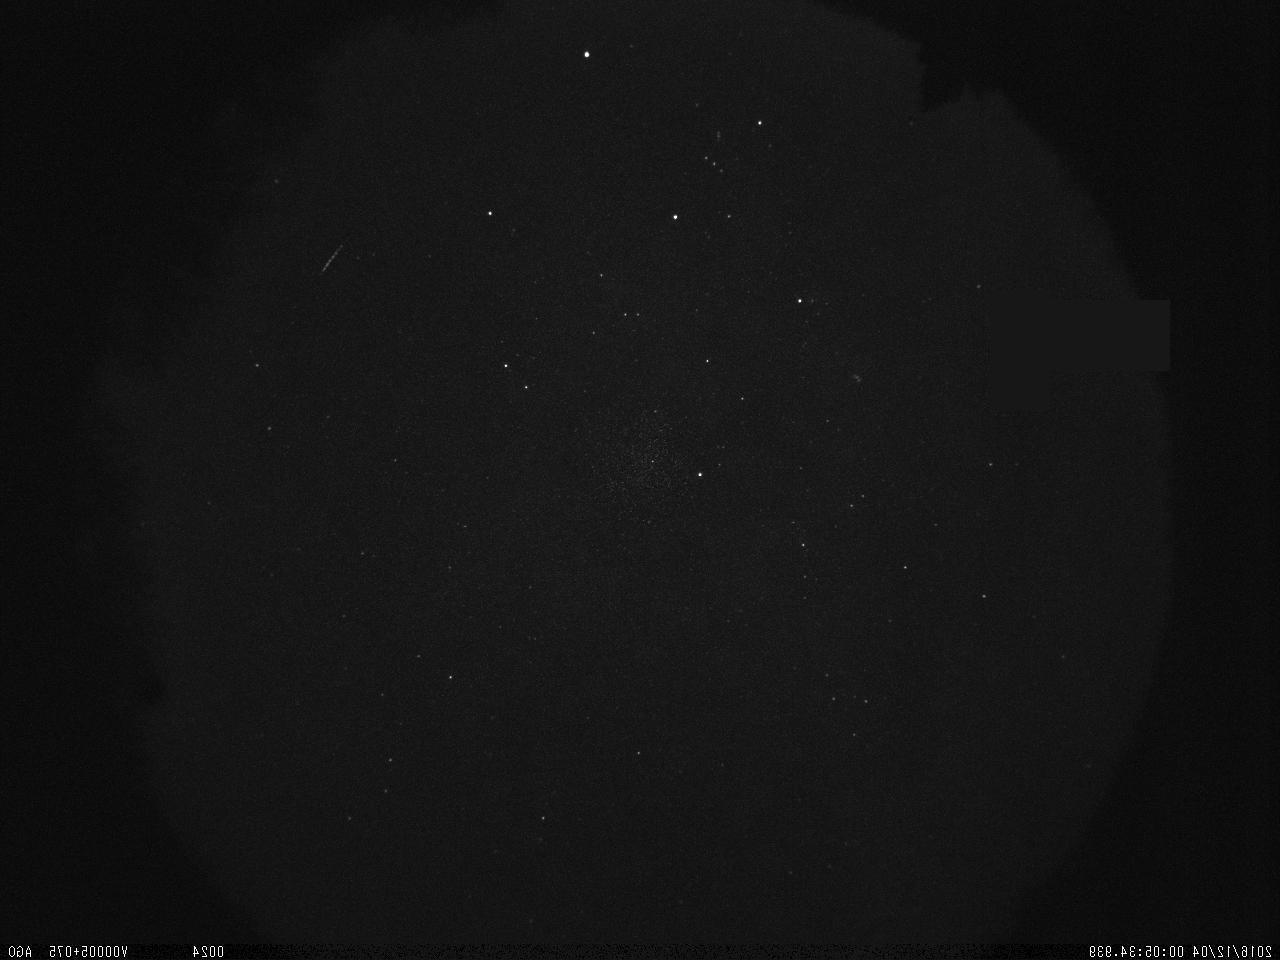meteor: (297, 233, 360, 287)
